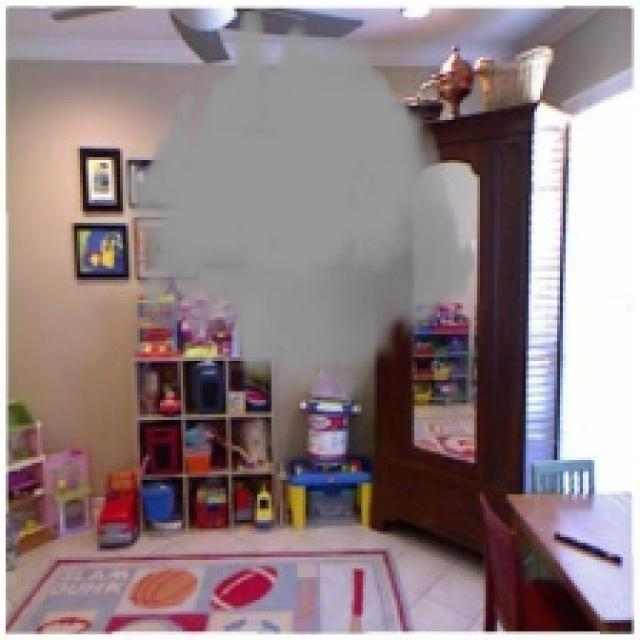Smoke: (120, 11, 477, 403)
